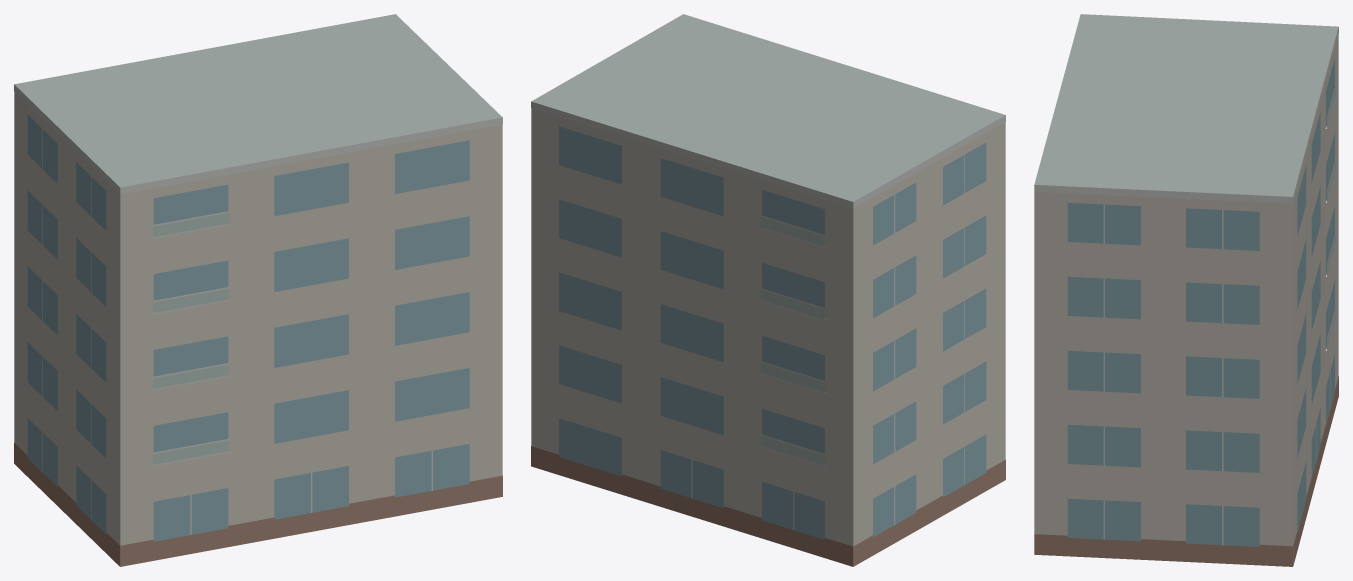
Rendered from survey-upis-32965214.glb.
The picture shows the model from 3 angles, left to right: view 1: azimuth 30°, elevation 25°; view 2: azimuth 150°, elevation 25°; view 3: azimuth 270°, elevation 25°; orthographic projection. The views are drawn at different scales.
Parts seen in each view (by area): view 1: survey-upis-32965214.tmp; view 2: survey-upis-32965214.tmp; view 3: survey-upis-32965214.tmp.
Part boxes in pixels (bbox=[...]): survey-upis-32965214.tmp: bbox=[14, 14, 502, 566]; survey-upis-32965214.tmp: bbox=[531, 14, 1005, 566]; survey-upis-32965214.tmp: bbox=[1034, 14, 1338, 566].
Size of the model in its own units: 13.85 by 13.05 by 9.75.
